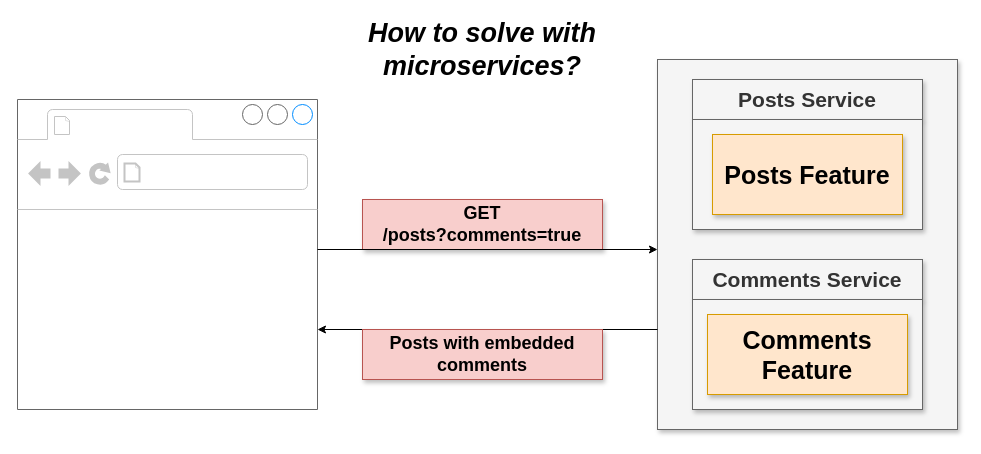
This 981x454 diagram has some shape labels left out. Each missing label, with the centre of its shape:
localhost: the point at 272,172
Page 1: the point at 132,124
